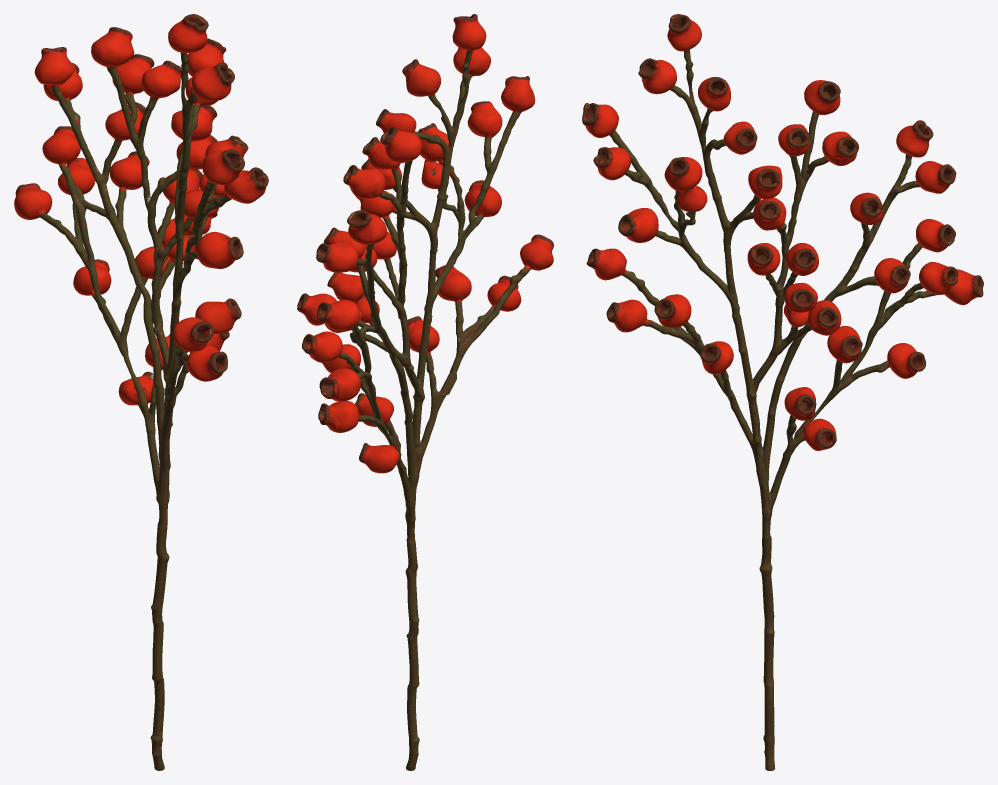
Rendered from RedBerry.glb.
3 views of the same model, side by side, from view 1: azimuth 30°, elevation 25°; view 2: azimuth 150°, elevation 25°; view 3: azimuth 270°, elevation 25° (orthographic). The views are drawn at different scales.
Visible parts, largest first — view 1: tripo_node_faf51cab-41f7-4aea-b801-4d1c9138c171; view 2: tripo_node_faf51cab-41f7-4aea-b801-4d1c9138c171; view 3: tripo_node_faf51cab-41f7-4aea-b801-4d1c9138c171.
Part boxes in pixels (x1,y1,x2,y2): tripo_node_faf51cab-41f7-4aea-b801-4d1c9138c171: [14, 14, 268, 770]; tripo_node_faf51cab-41f7-4aea-b801-4d1c9138c171: [297, 14, 553, 770]; tripo_node_faf51cab-41f7-4aea-b801-4d1c9138c171: [582, 14, 983, 770].
Bounding box in the file's own units: 0.1877 × 0.9999 × 0.4884.
Materials: 1 (1 with a texture image).
